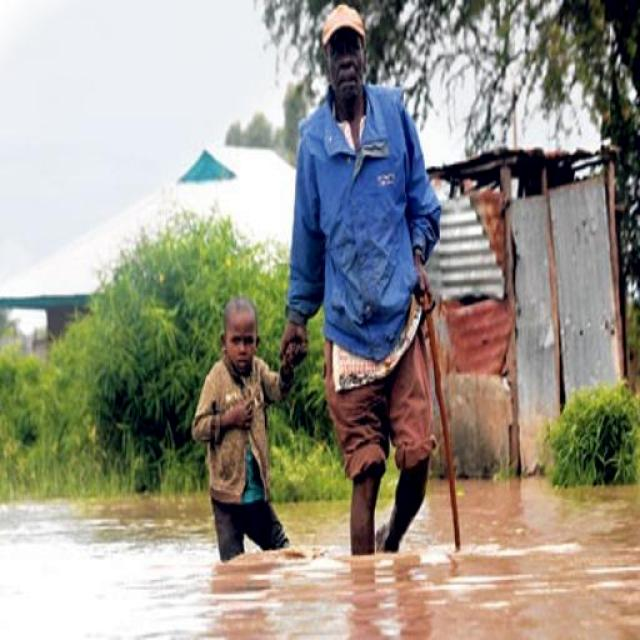civilian: (280, 5, 473, 579), (174, 257, 324, 597)
